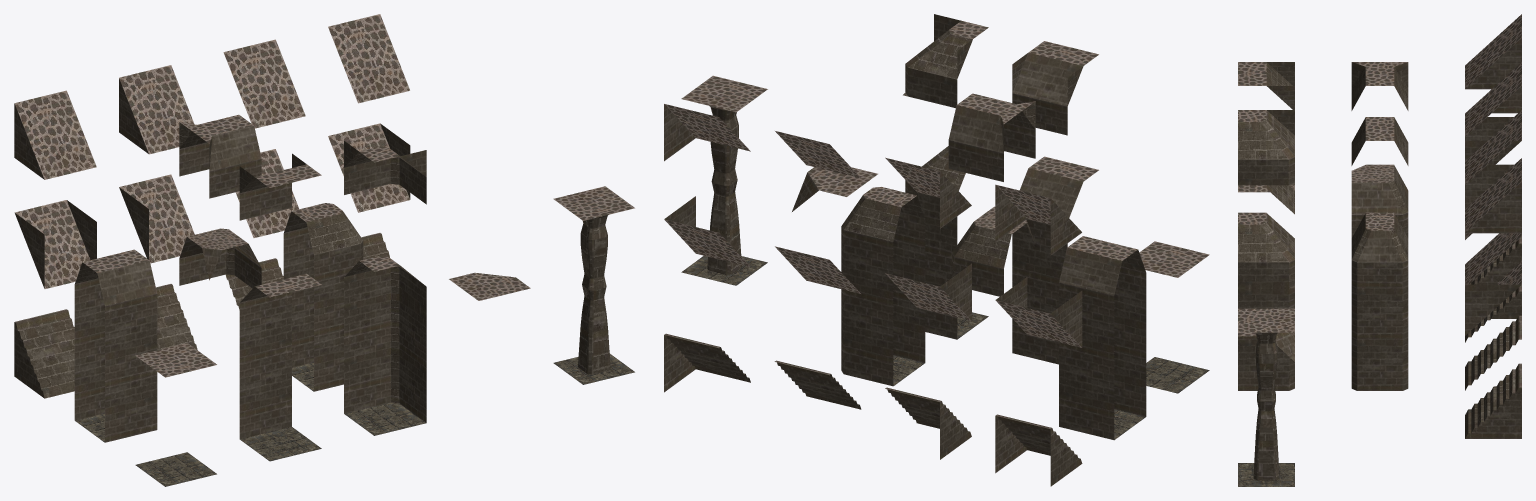
The model's file is dungeon_tileset_1.glb.
The picture shows the model from 3 angles, left to right: view 1: azimuth 30°, elevation 25°; view 2: azimuth 150°, elevation 25°; view 3: azimuth 270°, elevation 25°; orthographic projection. The views are drawn at different scales.
Parts seen in each view (by area): view 1: corner_bottom-col, ramp_small_inverted2-col, corridor_top-col, corridor_bottom-col, ramp_small_inverted-col, corridor_top_flared-col, ramp_big_left_inverted2-col, ramp_small-col, corner_middle-col, wall_bottom-col, ramp_big_right_inverted2-col, ramp_big_middle_inverted2-col (+21 smaller); view 2: corridor_top_flared-col, corridor_bottom-col, corridor_end_bottom-col, corridor_top-col, corridor_end_top-col, wall_top_flared-col, corridor_middle-col, corridor_end_middle-col, corner_top_flared-col, corridor_corner_top-col, wall_top-col, ramp_small-col (+22 smaller); view 3: corner_top_flared-col, corridor_end_top-col, corner_top-col, corridor_end_bottom-col, corridor_end_middle-col, corridor_corner_top-col, ramp_big_right-col, ramp_big_right_inverted2-col, ramp_small_inverted2-col, pillar_top-col, pillar_bottom-col, ramp_big_right_inverted-col (+16 smaller).
Part boxes in pixels (<box>): corner_bottom-col: <box>344,347,426,435</box>; ramp_small_inverted2-col: <box>14,90,96,179</box>; corridor_top-col: <box>74,249,157,333</box>; corridor_bottom-col: <box>74,359,157,442</box>; ramp_small_inverted-col: <box>14,200,96,288</box>; corridor_top_flared-col: <box>179,114,261,198</box>; ramp_big_left_inverted2-col: <box>119,65,194,154</box>; ramp_small-col: <box>14,309,74,398</box>; corner_middle-col: <box>344,293,426,368</box>; wall_bottom-col: <box>239,372,321,461</box>; ramp_big_right_inverted2-col: <box>328,14,409,103</box>; ramp_big_middle_inverted2-col: <box>223,39,305,128</box>; corridor_top_flared-col: <box>948,93,1035,181</box>; corridor_bottom-col: <box>1059,351,1146,440</box>; corridor_end_bottom-col: <box>841,297,925,386</box>; corridor_top-col: <box>1059,236,1146,324</box>; corridor_end_top-col: <box>841,187,925,270</box>; wall_top_flared-col: <box>1012,41,1098,135</box>; corridor_middle-col: <box>1059,294,1146,382</box>; corridor_end_middle-col: <box>841,240,925,328</box>; corner_top_flared-col: <box>903,14,988,108</box>; corridor_corner_top-col: <box>952,206,1034,296</box>; wall_top-col: <box>1012,156,1098,250</box>; ramp_small-col: <box>995,414,1082,486</box>; corner_top_flared-col: <box>1238,110,1294,185</box>; corridor_end_top-col: <box>1351,212,1408,288</box>; corner_top-col: <box>1238,212,1294,288</box>; corridor_end_bottom-col: <box>1351,337,1408,390</box>; corridor_end_middle-col: <box>1351,286,1408,339</box>; corridor_corner_top-col: <box>1351,164,1408,237</box>; ramp_big_right-col: <box>1465,363,1521,438</box>; ramp_big_right_inverted2-col: <box>1465,158,1521,233</box>; ramp_small_inverted2-col: <box>1465,14,1521,89</box>; pillar_top-col: <box>1238,308,1294,376</box>; pillar_bottom-col: <box>1238,422,1294,486</box>; ramp_big_right_inverted-col: <box>1465,261,1521,335</box>.
Bounding box in the file's own units: 18 × 10 × 10.
Materials: 24 (24 with a texture image).
